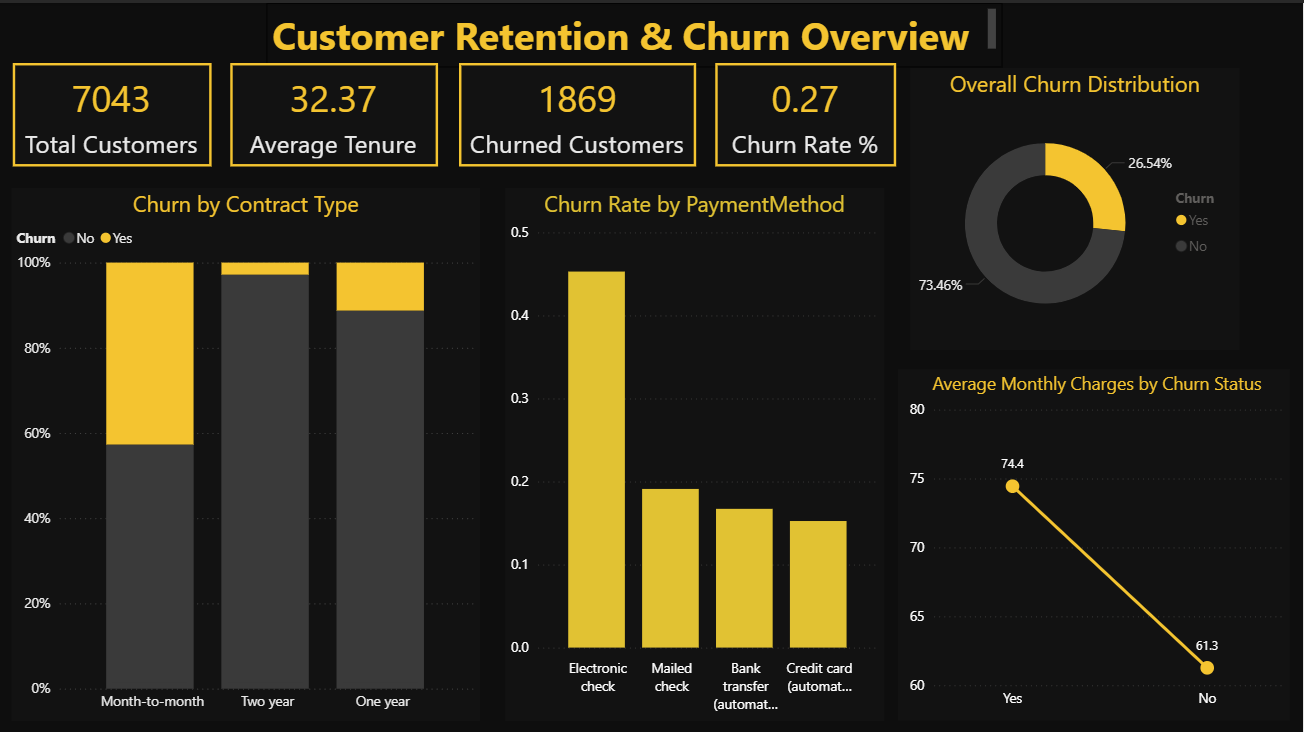

This screenshot's page, from the dashboard's own definition file:
{"tool":"powerbi","page":{"name":"Page 4","canvas":[1280,720],"ordinal":0},"visuals":[{"type":"textbox","box":[262.2,0,722.4,63.2],"z":0},{"type":"donutChart","title":"Overall Churn Distribution","fields":{"Category":["customer_churn.Churn"],"Y":["CountNonNull(customer_churn.customerID)"]},"box":[895,63.3,323.3,276.7],"z":1000},{"type":"hundredPercentStackedColumnChart","title":"Churn by Contract Type","fields":{"Category":["customer_churn.Contract"],"Y":["CountNonNull(customer_churn.customerID)"],"Series":["customer_churn.Churn"]},"box":[11.7,181.7,460,523.3],"z":2000},{"type":"clusteredColumnChart","title":"Churn Rate by PaymentMethod","fields":{"Category":["customer_churn.PaymentMethod"],"Y":["customer_churn.Churn Rate %"]},"box":[496.7,181.7,371.7,523.3],"z":3000},{"type":"card","fields":{"Values":["customer_churn.Total Customers"]},"box":[13.5,58.9,195.1,101.8],"z":4000},{"type":"card","fields":{"Values":["customer_churn.Average Tenure"]},"box":[227,58.9,203.7,101.8],"z":5000},{"type":"card","fields":{"Values":["customer_churn.Churned Customers"]},"box":[451.5,58.9,233.1,101.8],"z":6000},{"type":"card","fields":{"Values":["customer_churn.Churn Rate %"]},"box":[703.1,58.9,177.9,101.8],"z":7000},{"type":"lineChart","title":"Average Monthly Charges by Churn Status","fields":{"Category":["customer_churn.Churn"],"Y":["Avg(customer_churn.MonthlyCharges)"]},"box":[881.7,360,385,345],"z":8000}]}

Visuals, with their boxes in screenshot pixels (x1, y1, x2, y2), scaled from the page's 1280x720 canvas onto the 1304x732 screenshot:
textbox: rect(267, 0, 1003, 64)
"Overall Churn Distribution" donutChart: rect(912, 64, 1241, 346)
"Churn by Contract Type" hundredPercentStackedColumnChart: rect(12, 185, 481, 717)
"Churn Rate by PaymentMethod" clusteredColumnChart: rect(506, 185, 885, 717)
card - customer_churn.Total Customers: rect(14, 60, 213, 163)
card - customer_churn.Average Tenure: rect(231, 60, 439, 163)
card - customer_churn.Churned Customers: rect(460, 60, 697, 163)
card - customer_churn.Churn Rate %: rect(716, 60, 898, 163)
"Average Monthly Charges by Churn Status" lineChart: rect(898, 366, 1290, 717)
